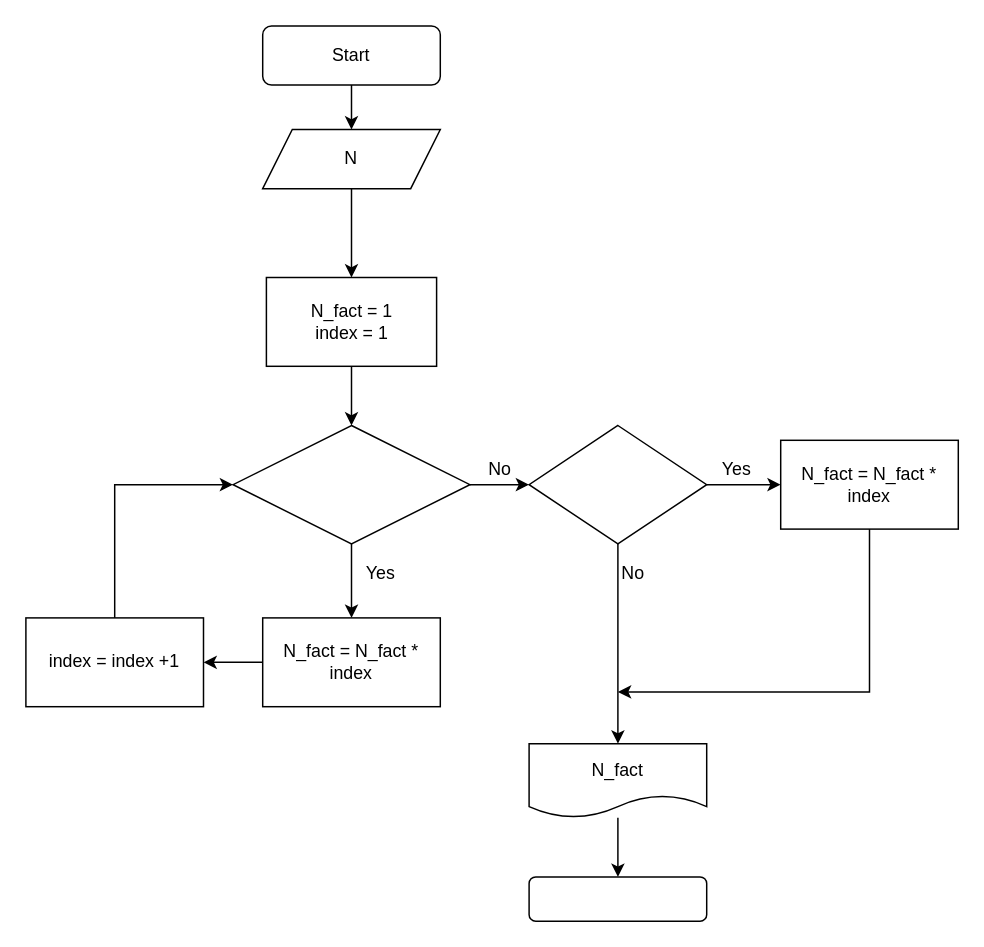
Some shapes in this 984 by 947 pixel diagram are drawn without their labels. The shapes that lost their labels are listed below. From the top down, each one's centre as x and y in pixels, then its label:
At point (351, 484): "index < N?".
At point (617, 484): "N > 0?".
At point (617, 898): "Finish".
